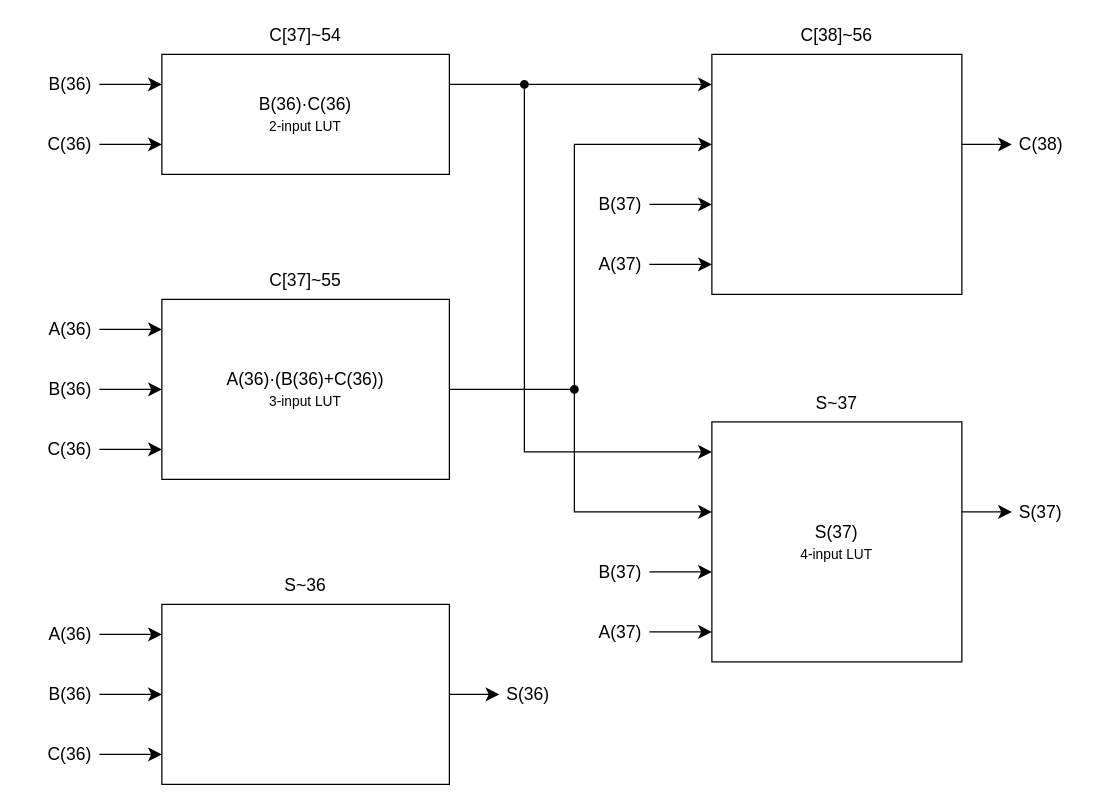
The diagram is 1108 pixels wide and 806 high, and some of its shapes have lost their labels. Here are the shapes that lost their labels. From the top down, the centre of each, then its label:
At (x=836, y=173): "C(38) 4-input LUT".
At (x=305, y=693): "S(36) 3-input LUT".
